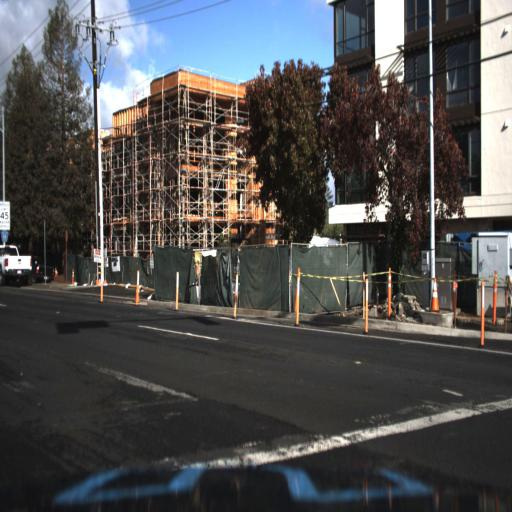car: (0, 240, 33, 286), (30, 250, 55, 282)
